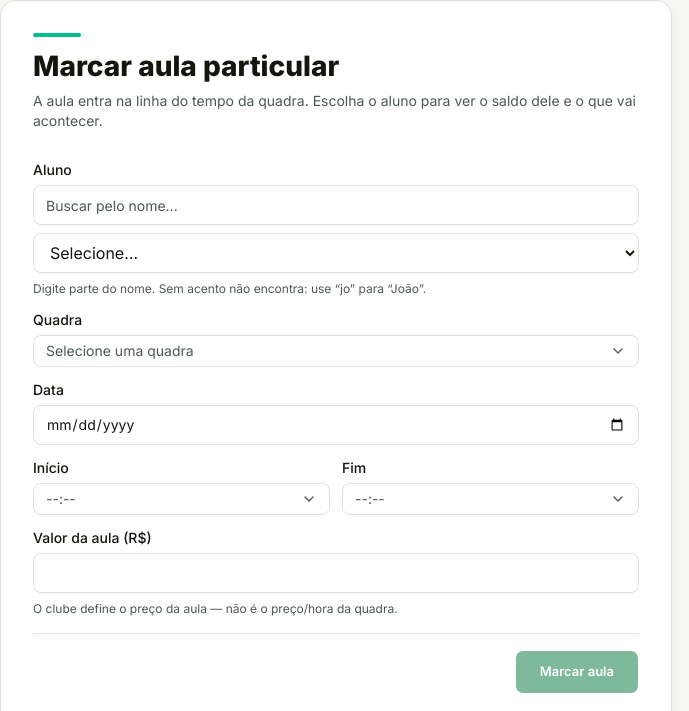
it: MarcarAulaParticular › dia em que ele NAO atende avisa, e manda configurar a disponibilidade
The image size is (689, 711).
Select "Ana" in the dropdown labelled "Aluno" at (336, 253), box top-left (33, 233), bottom-right (639, 273)
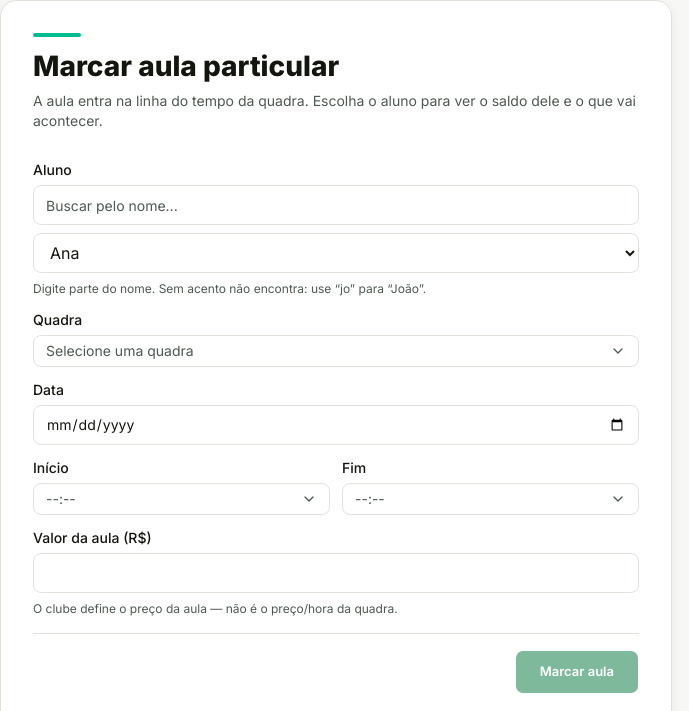
Click the dropdown labelled "quadra" at (120, 350), box top-left (33, 335), bottom-right (639, 367)
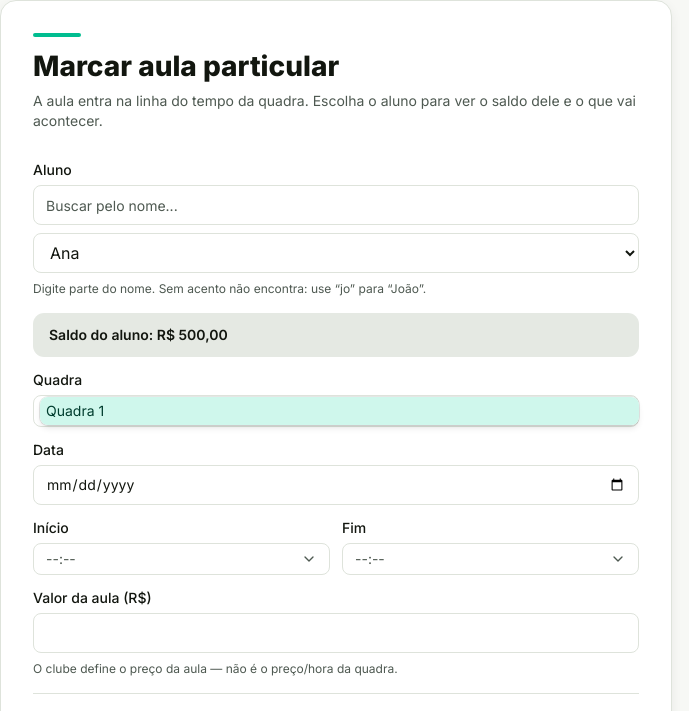
Click the option "Quadra 1" at (75, 410), box top-left (40, 397), bottom-right (639, 425)
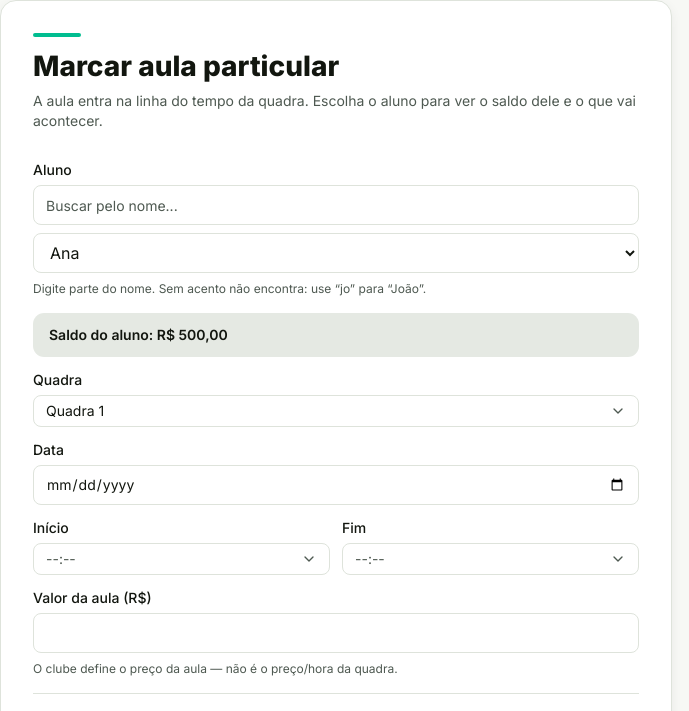
Type "2035-06-08" into the date field labelled "Data" at (336, 485), box top-left (33, 465), bottom-right (639, 505)
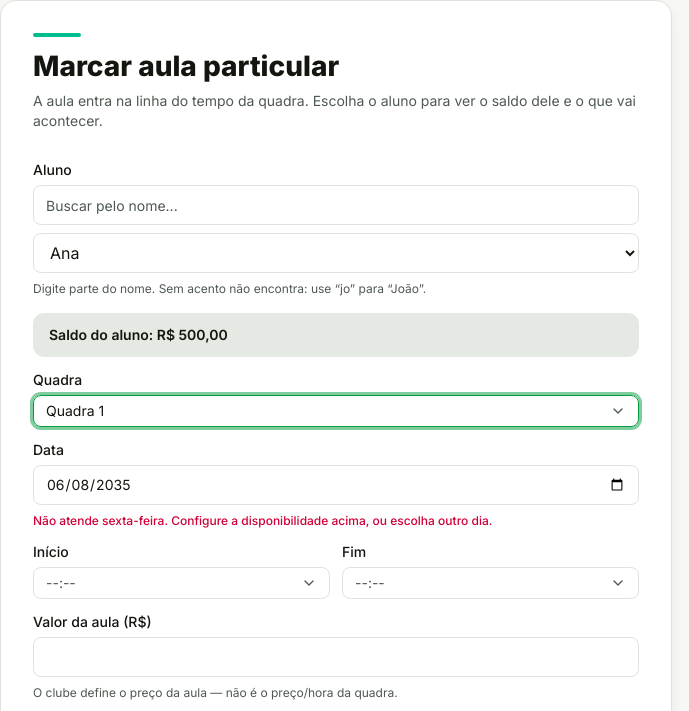
Result: the text "Configure a disponibilidade acima" is shown at top-left (33, 513), bottom-right (492, 528)
